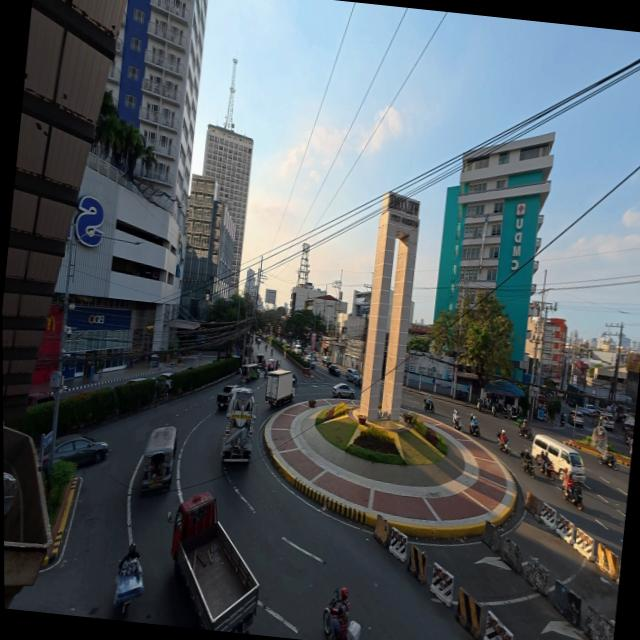Jeepneys: (141, 427, 175, 493), (240, 364, 259, 384), (256, 354, 265, 369)
car: (53, 435, 107, 466), (216, 385, 237, 408), (27, 392, 53, 406), (332, 383, 354, 398), (156, 372, 172, 390), (566, 411, 583, 427), (124, 377, 146, 385), (353, 373, 363, 388), (327, 364, 339, 376), (584, 404, 596, 415), (307, 358, 316, 370), (321, 356, 330, 367), (267, 358, 274, 371), (309, 351, 316, 360), (302, 354, 309, 362)
motorcycle: (322, 588, 360, 639), (113, 559, 143, 614), (563, 483, 582, 510), (536, 455, 555, 481), (520, 451, 535, 477), (597, 453, 617, 470), (495, 432, 509, 455), (490, 401, 505, 415), (518, 427, 532, 440), (507, 406, 520, 420), (469, 419, 479, 437), (476, 398, 489, 411), (452, 416, 461, 431), (423, 401, 434, 412), (559, 414, 564, 427)
trucks: (170, 493, 257, 633), (220, 387, 254, 462), (264, 370, 295, 405), (216, 385, 236, 408)
vans: (531, 435, 585, 482), (599, 414, 613, 430), (345, 368, 358, 382), (293, 344, 301, 355)
